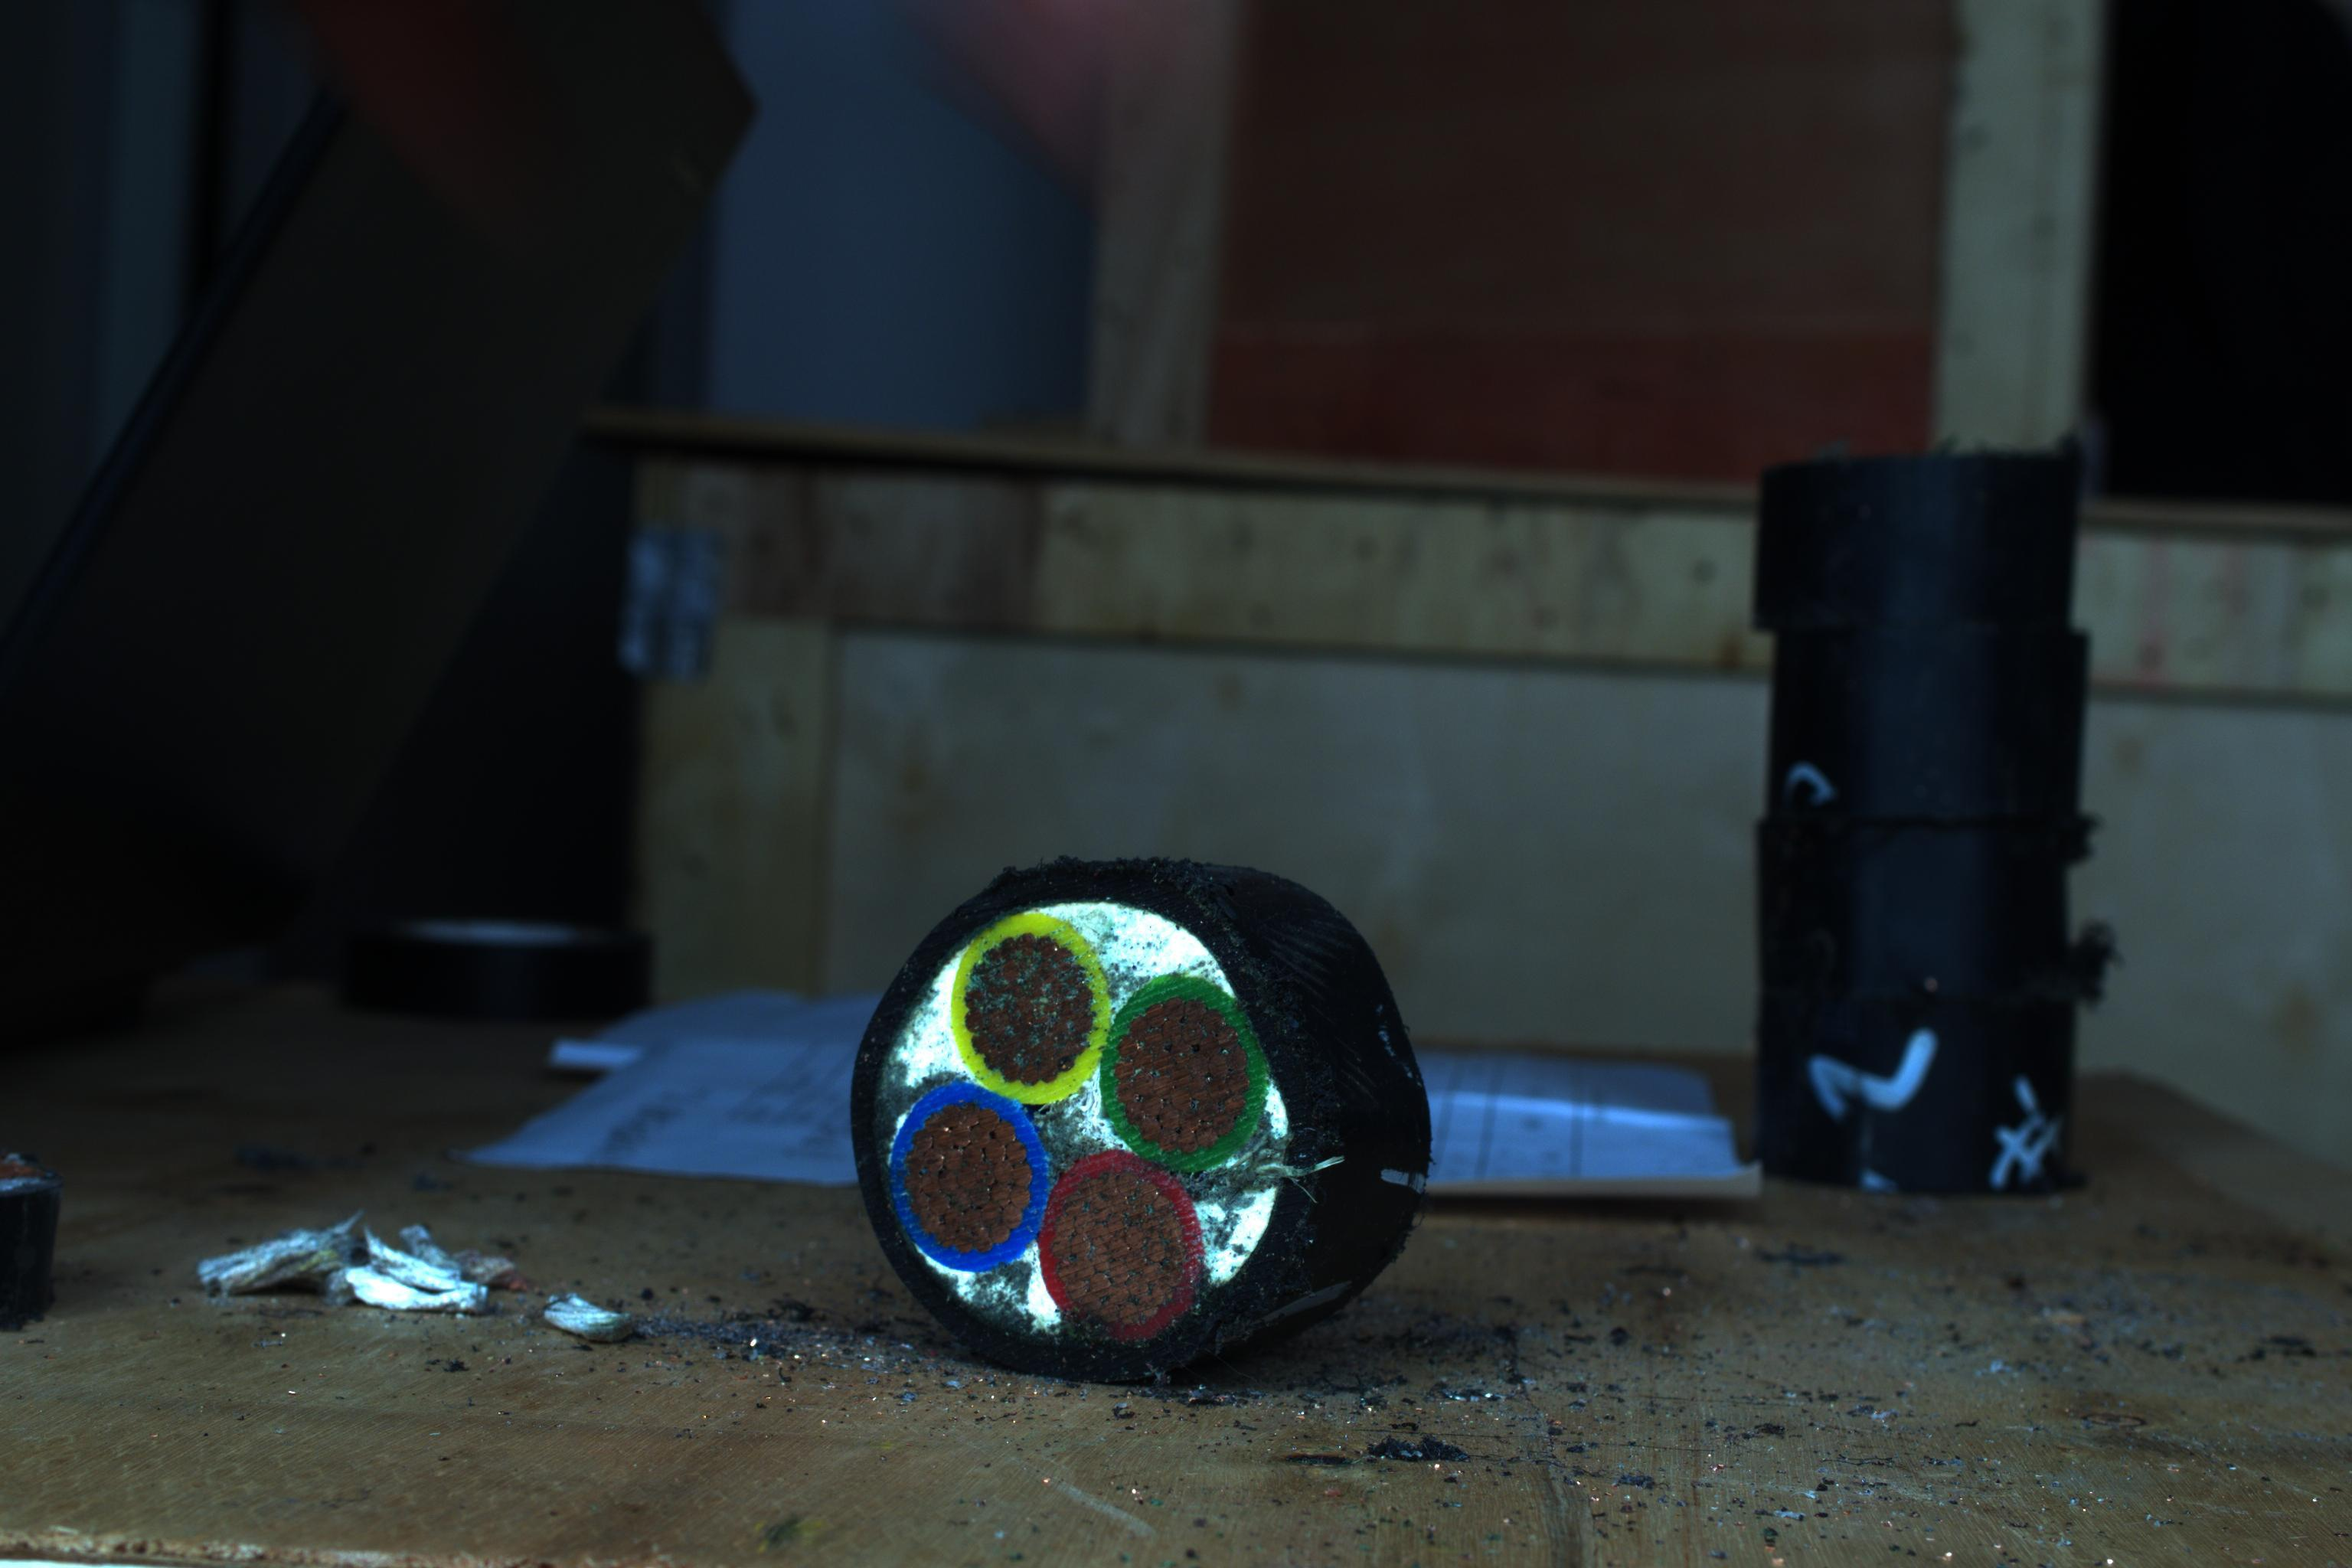YJV_0.6_1kV_4x185: (856, 857, 1311, 1384)
